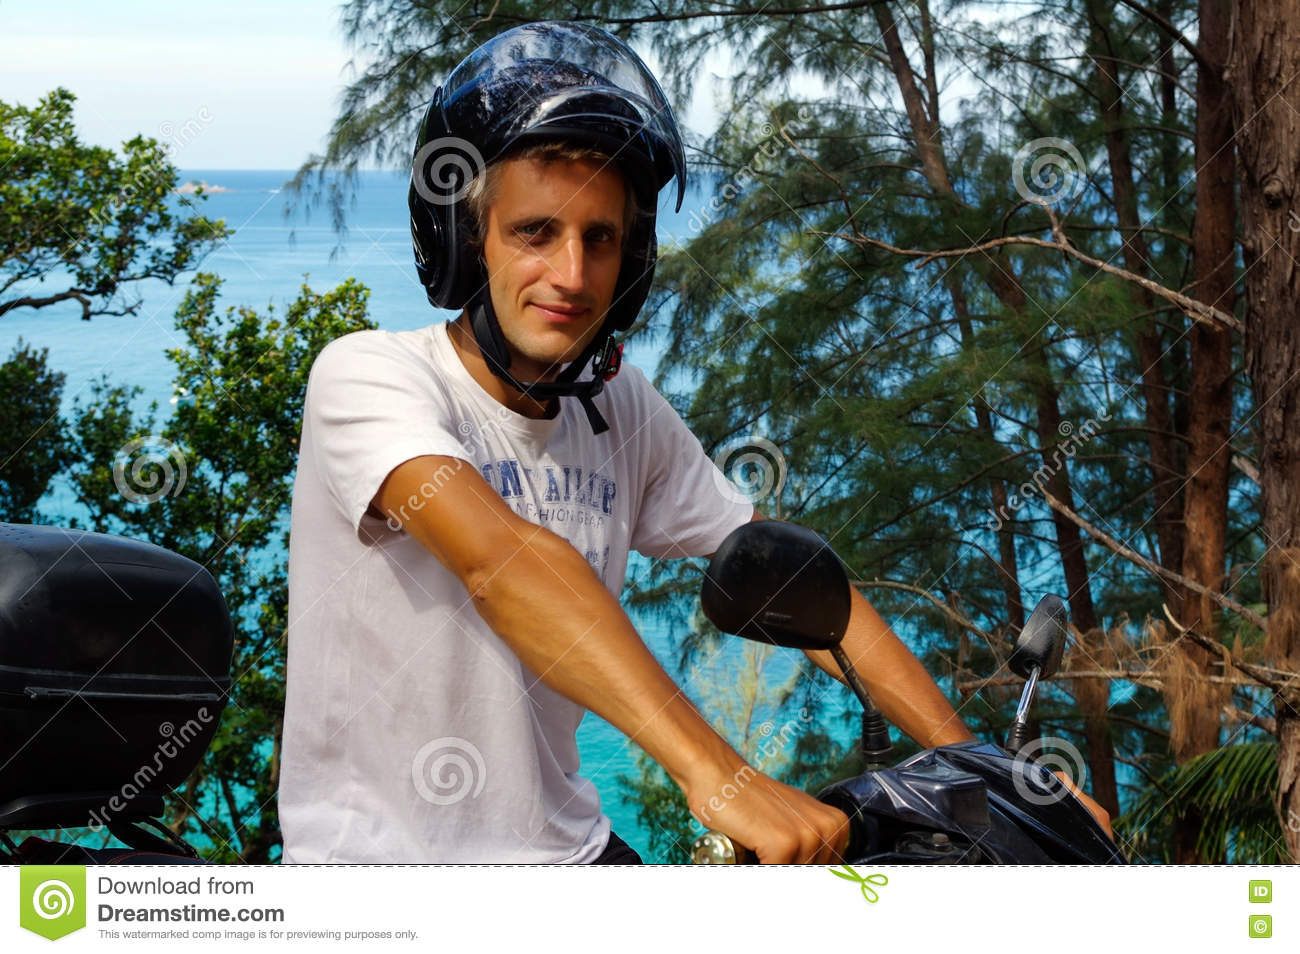helmet: (395, 44, 668, 324)
